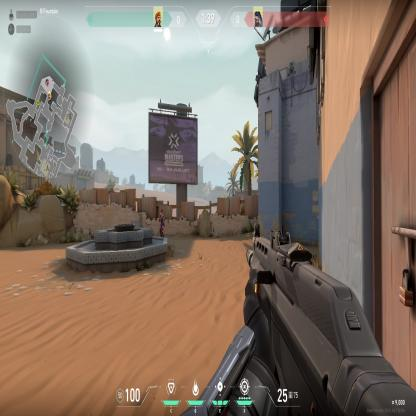enemy: (158, 209, 165, 238)
